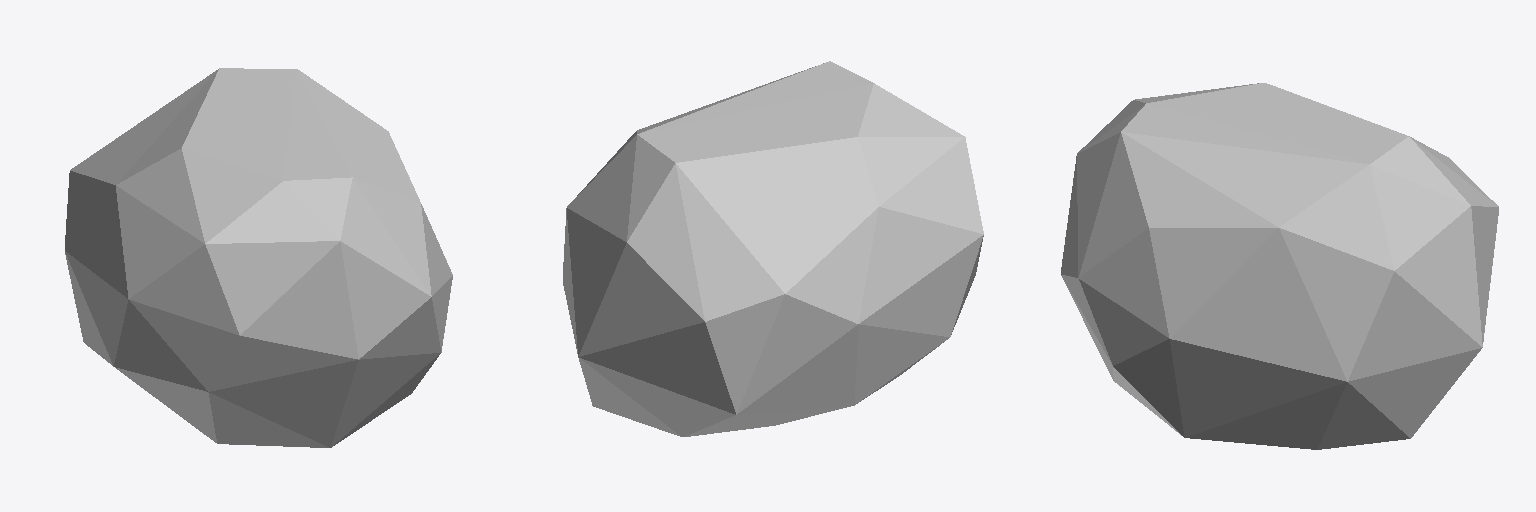
Rendered from stos_srodek.obj.
3 renders of one model, left to right at view 1: azimuth 30°, elevation 25°; view 2: azimuth 150°, elevation 25°; view 3: azimuth 270°, elevation 25°, orthographic.
Visible parts, largest first — view 1: rock.001; view 2: rock.001; view 3: rock.001.
Part boxes in pixels (x1,y1,x2,y2): rock.001: (65,68,452,447); rock.001: (563,61,983,436); rock.001: (1061,83,1498,449).
Bounding box in the file's own units: 10.45 × 7.76 × 11.57.